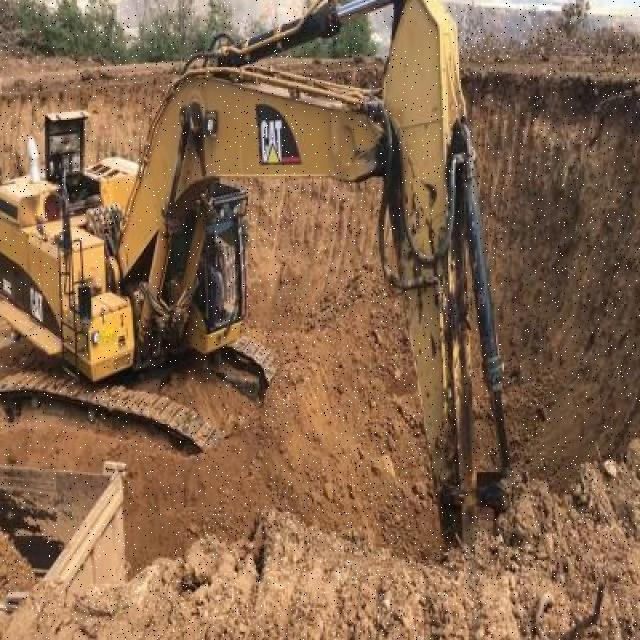Excavator: (0, 0, 526, 561)
